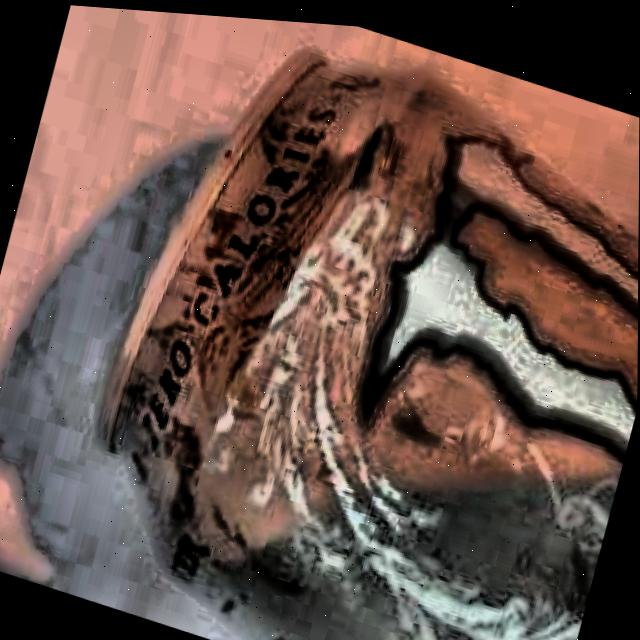metal: (85, 34, 639, 640)
